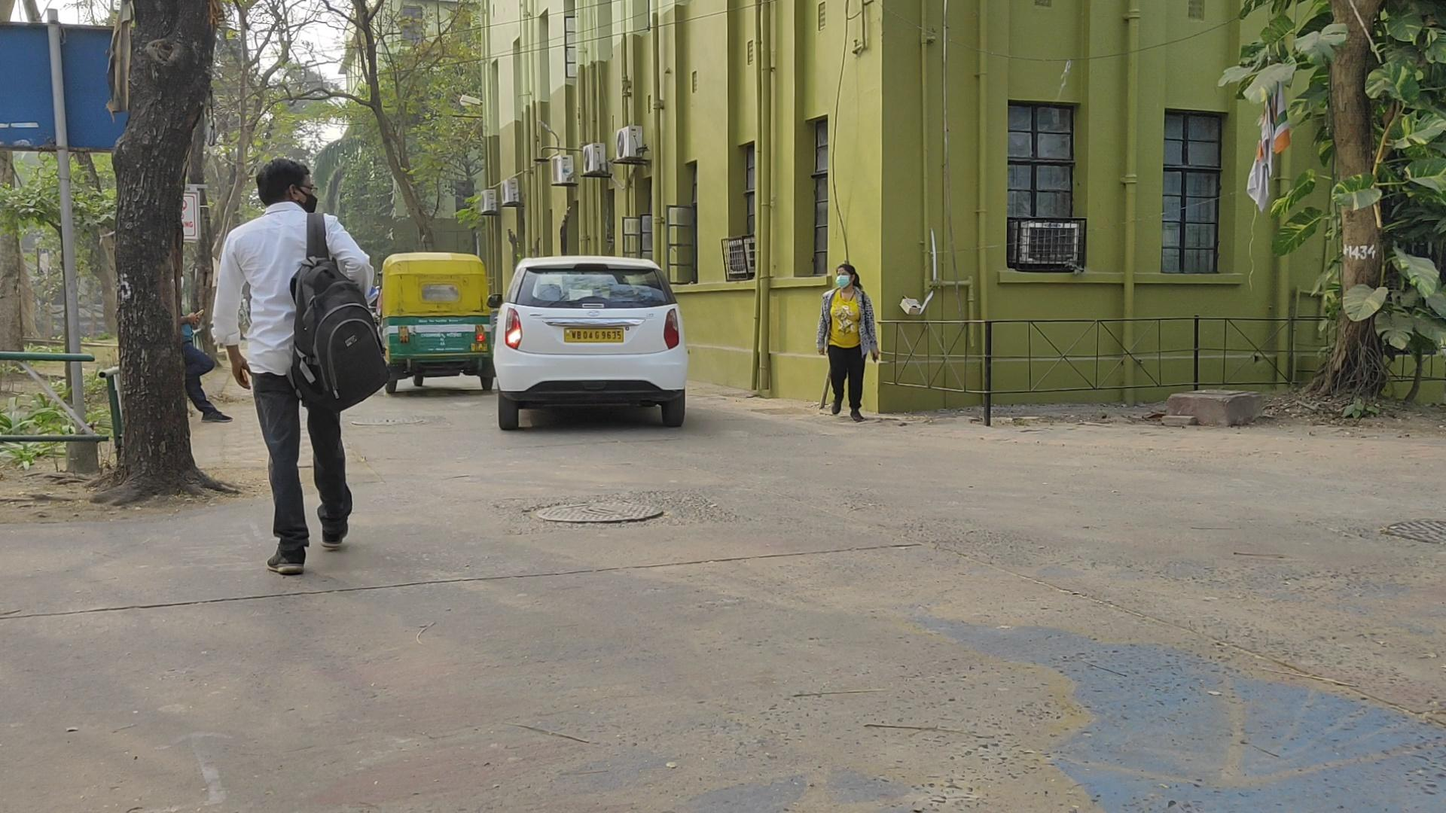Auto: (376, 252, 496, 396)
car: (493, 256, 692, 430)
